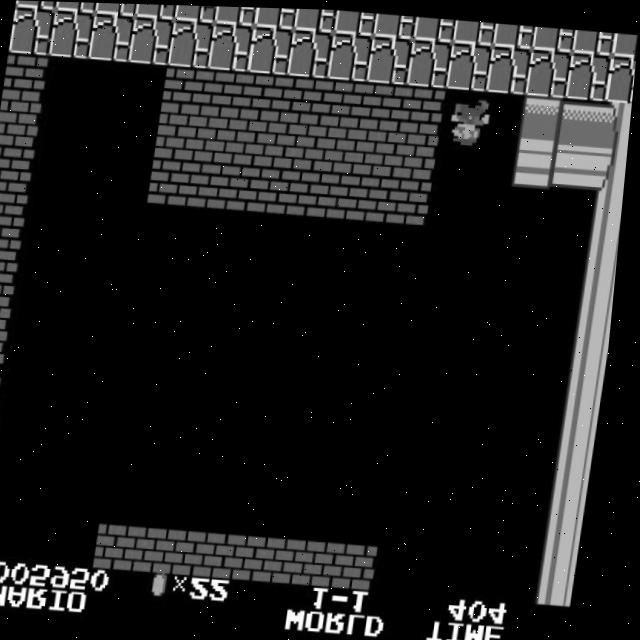1- brick_block: (162, 64, 209, 113), (196, 113, 243, 162), (202, 67, 249, 116), (183, 526, 230, 575), (236, 116, 283, 165), (242, 70, 289, 119), (223, 529, 270, 578), (276, 119, 323, 168), (263, 532, 310, 581), (303, 536, 350, 585), (361, 80, 408, 129), (395, 128, 442, 177), (401, 83, 448, 132), (389, 174, 436, 222), (4, 53, 50, 102), (104, 520, 150, 569), (157, 110, 203, 159), (144, 523, 190, 572), (282, 74, 328, 123), (316, 122, 362, 171), (322, 77, 368, 126), (356, 125, 402, 174), (343, 538, 389, 587), (151, 156, 197, 204), (191, 159, 237, 207), (231, 162, 277, 210), (270, 165, 316, 213), (310, 168, 356, 216), (350, 172, 396, 220), (0, 99, 44, 147), (0, 145, 38, 193), (0, 190, 32, 239), (0, 236, 26, 285), (0, 281, 20, 329), (0, 326, 14, 375), (0, 372, 8, 421), (0, 418, 2, 466)
11- little_mario: (444, 95, 494, 147)
14- pipe: (554, 140, 601, 189), (560, 95, 607, 144), (541, 554, 588, 603), (564, 371, 611, 420), (559, 417, 605, 466), (547, 509, 593, 557), (553, 463, 599, 511), (570, 326, 616, 374), (576, 280, 620, 329), (582, 235, 623, 284), (587, 190, 627, 238), (594, 144, 630, 192), (599, 98, 634, 147)
15- pipe_head: (515, 137, 562, 186), (520, 92, 567, 141)
17- undestructible_block: (128, 16, 175, 65), (168, 19, 215, 68), (208, 21, 255, 70), (248, 24, 295, 73), (367, 34, 414, 83), (486, 43, 533, 92), (526, 46, 573, 95), (566, 49, 613, 98), (10, 7, 56, 56), (49, 10, 95, 59), (89, 13, 135, 62), (288, 28, 334, 77), (328, 31, 374, 80), (407, 37, 453, 86), (447, 40, 493, 89), (605, 52, 637, 101), (333, 8, 377, 34), (373, 11, 417, 37), (413, 14, 457, 40), (453, 17, 497, 43), (532, 23, 576, 49), (572, 26, 616, 52), (492, 21, 536, 46), (293, 7, 337, 31), (253, 6, 297, 28), (214, 5, 257, 25), (174, 4, 217, 22), (611, 30, 639, 55), (134, 3, 177, 19), (94, 2, 137, 16), (54, 1, 97, 13), (15, 0, 57, 9)
